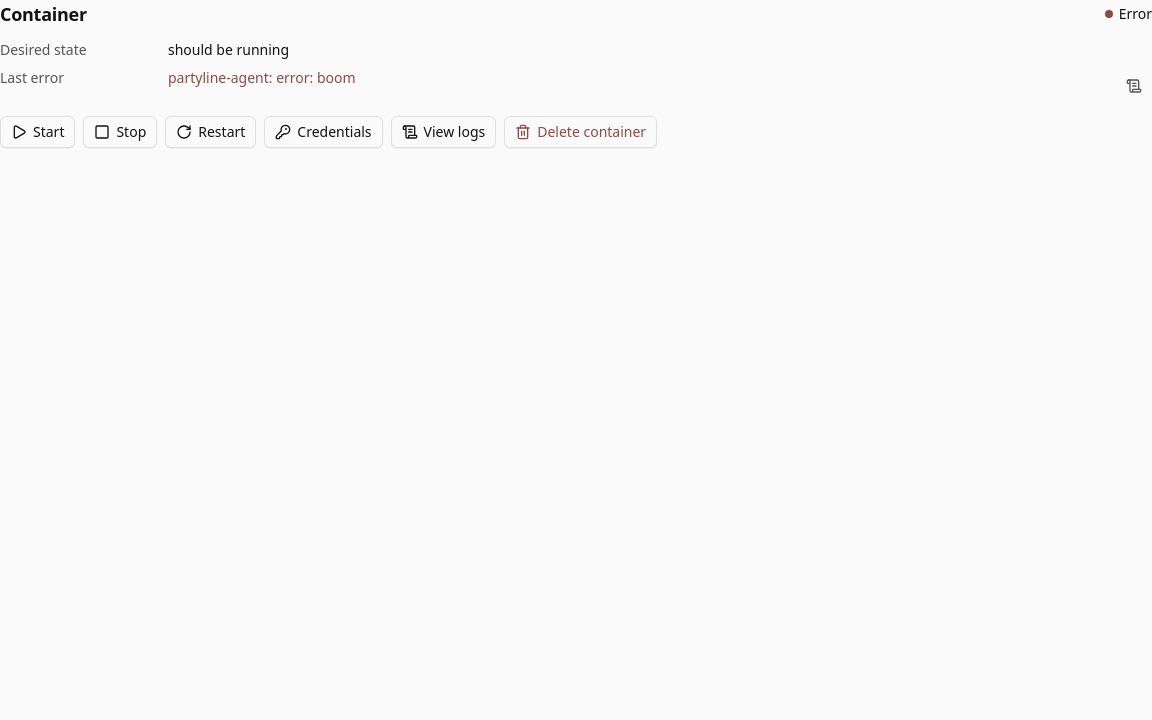
Test: the container section (CA-06) › opens the logs from the last error
This screenshot has width=1152, height=720.
Expected: the text "partyline-agent: error: boom" is shown, x1=168 y1=68 x2=356 y2=87
Click the button named "Open the container logs".
click(1134, 86)  # box x1=1116 y1=68 x2=1151 y2=104
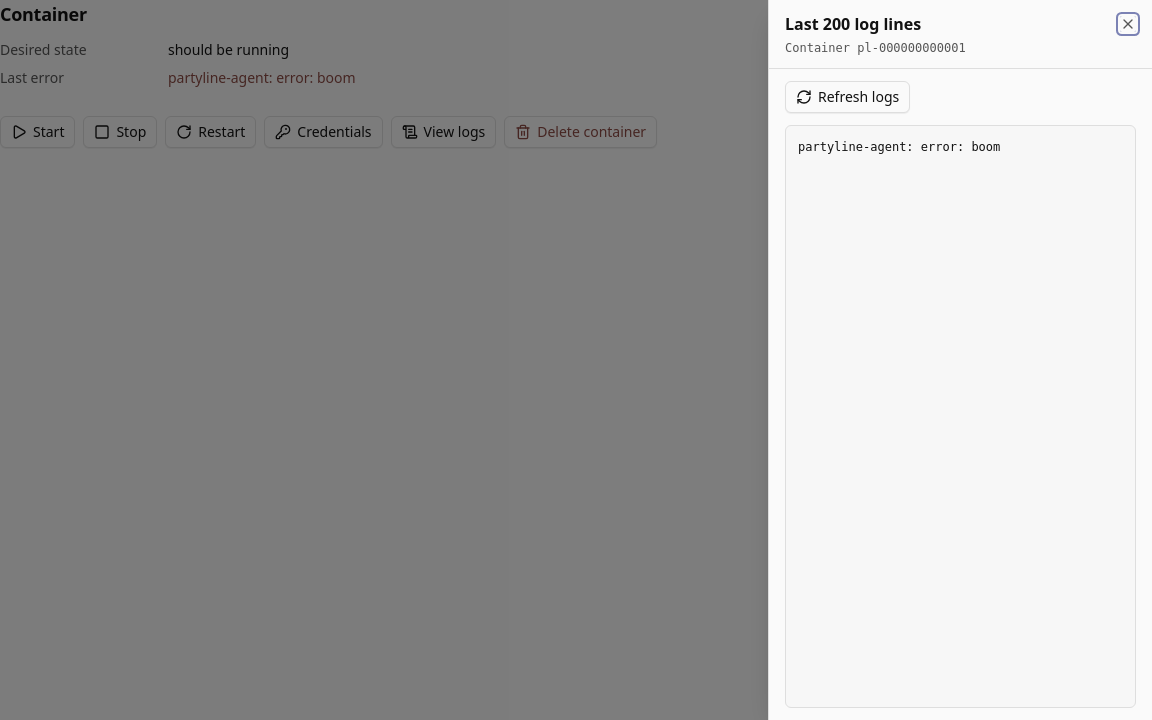
Result: the text "partyline-agent: error: boom" is shown at x1=785 y1=125 x2=1136 y2=708
